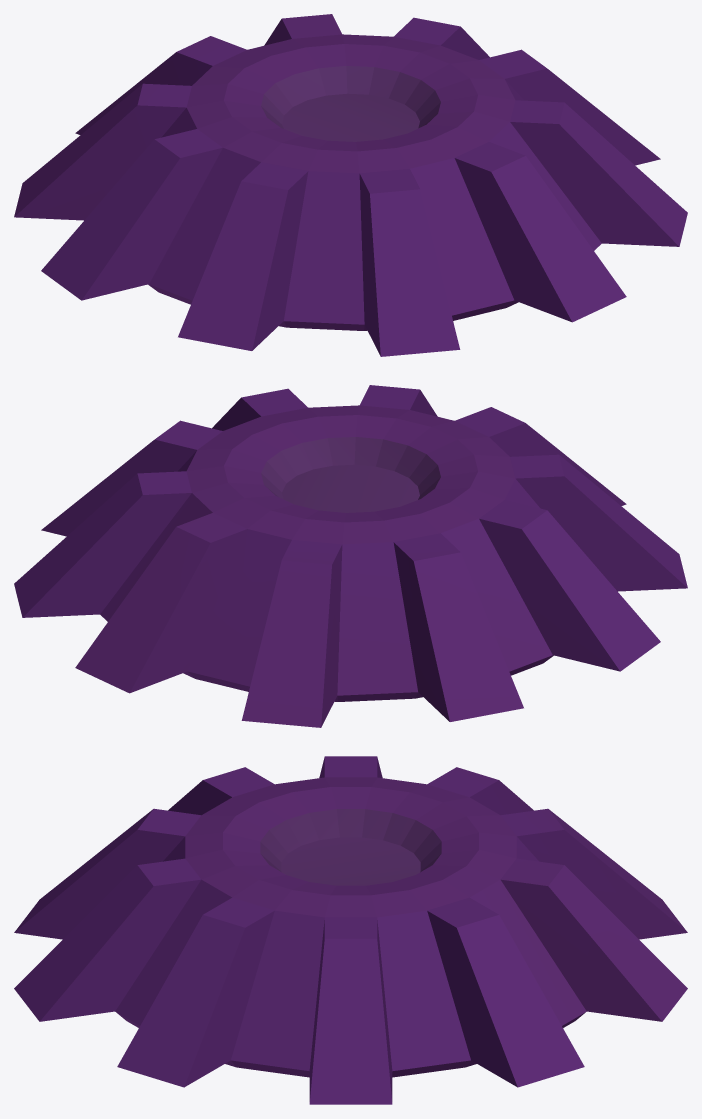
The model's file is obj_gear05_alt.gltf.
3 views of the same model, one above another, from view 1: azimuth 30°, elevation 25°; view 2: azimuth 150°, elevation 25°; view 3: azimuth 270°, elevation 25° (orthographic).
Parts seen in each view (by area): view 1: obj_gear05_alt; view 2: obj_gear05_alt; view 3: obj_gear05_alt.
Part boxes in pixels (x1,y1,x2,y2): obj_gear05_alt: (14, 14, 687, 356); obj_gear05_alt: (14, 385, 687, 727); obj_gear05_alt: (14, 756, 687, 1104).
Size of what is drawn, in the model's own units: 0.3429 by 0.0729 by 0.339.
1 material, 1 textured.
